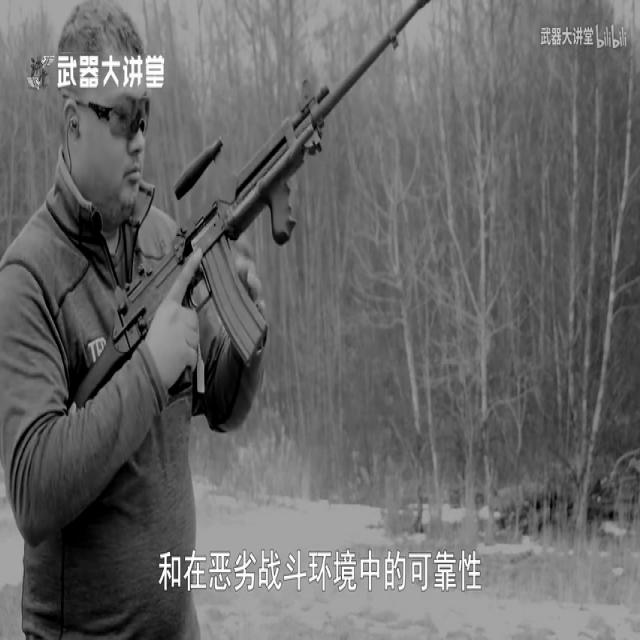Rifle: (90, 0, 422, 428)
